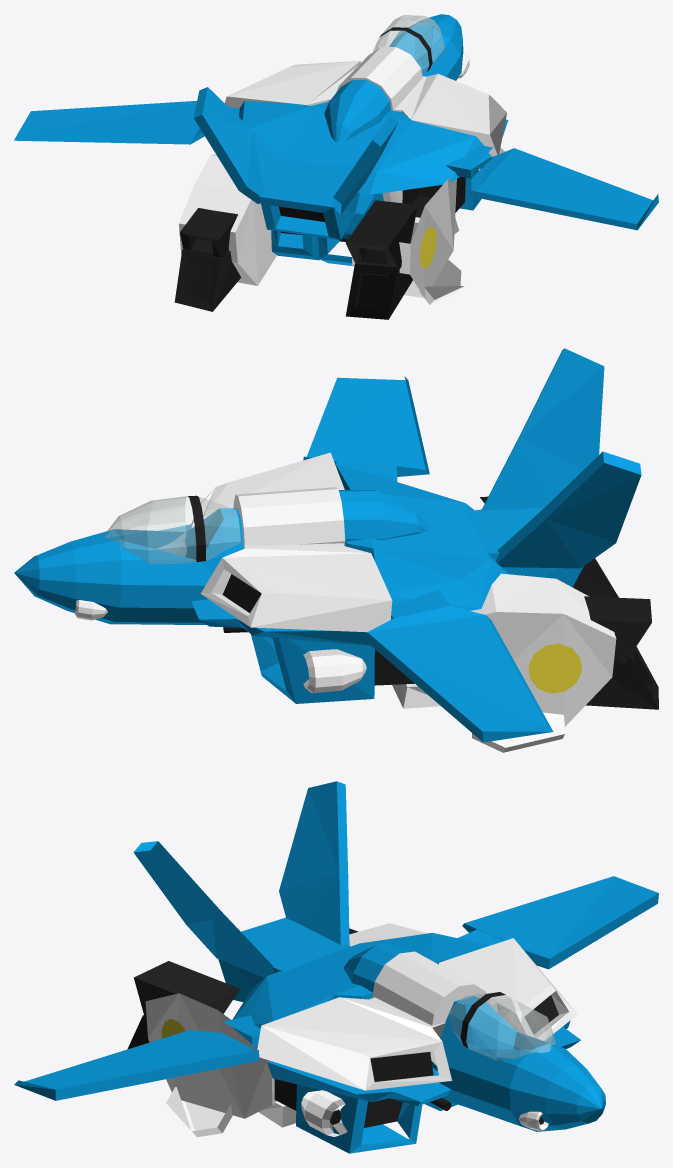
File: scene_bJlLkdbBdU.glb
3 renders of one model, top to bottom at view 1: azimuth 30°, elevation 25°; view 2: azimuth 150°, elevation 25°; view 3: azimuth 270°, elevation 25°, orthographic. The views are drawn at different scales.
Parts seen in each view (by area): view 1: Node; view 2: Node; view 3: Node.
Part boxes in pixels (x1,y1,x2,y2): Node: (14,14,658,319); Node: (14,348,658,752); Node: (14,781,658,1153).
Bounding box in the file's own units: 1.15 × 0.5464 × 1.25.
